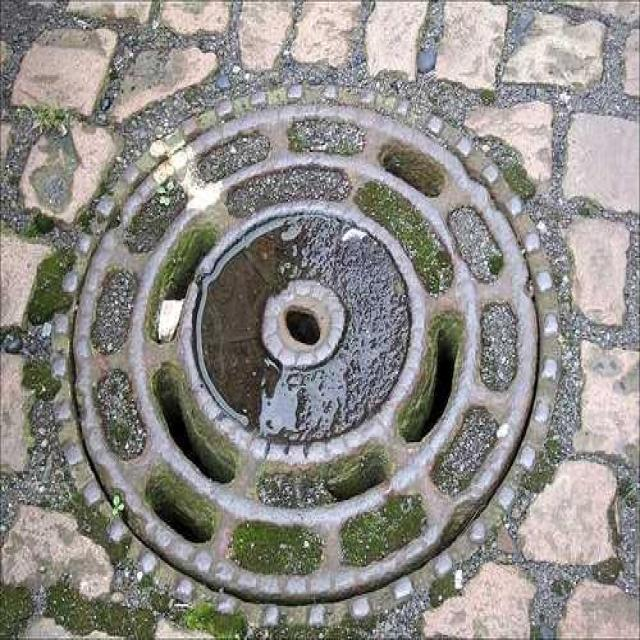manhole: (75, 108, 555, 604)
